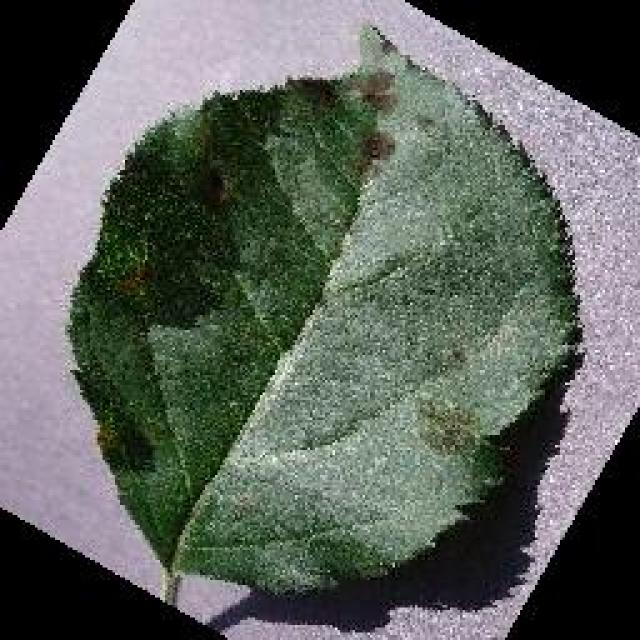apple scab disease: (63, 22, 585, 602)
